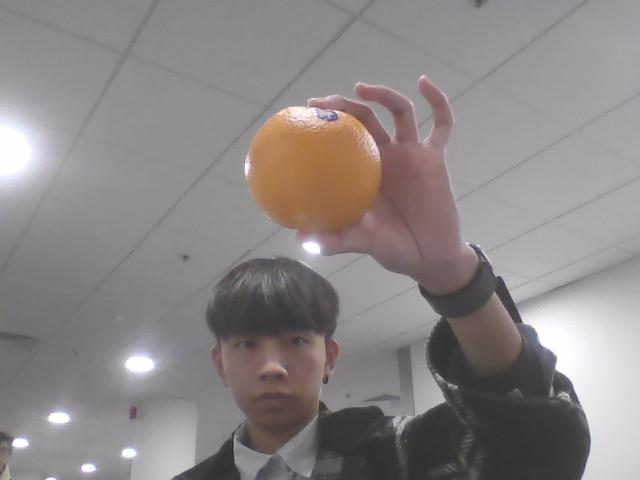orange: (244, 106, 384, 231)
